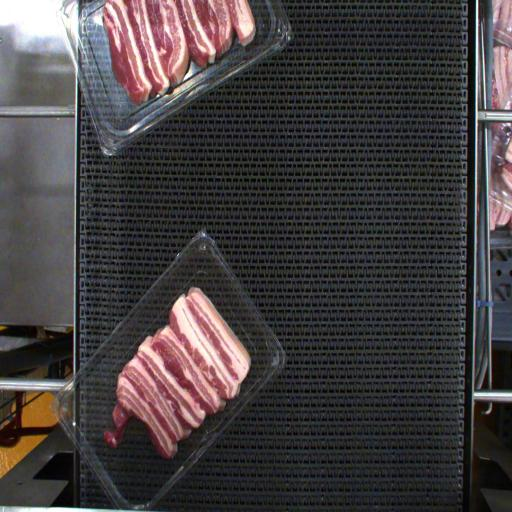loose-meat: (86, 400, 134, 454)
